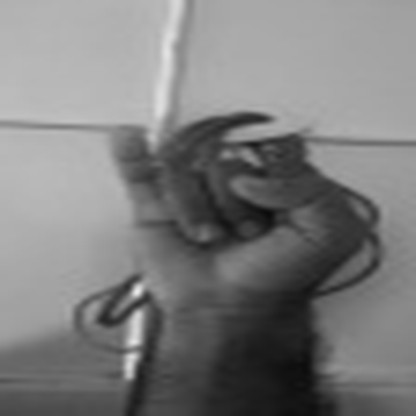i: (51, 96, 392, 317)
